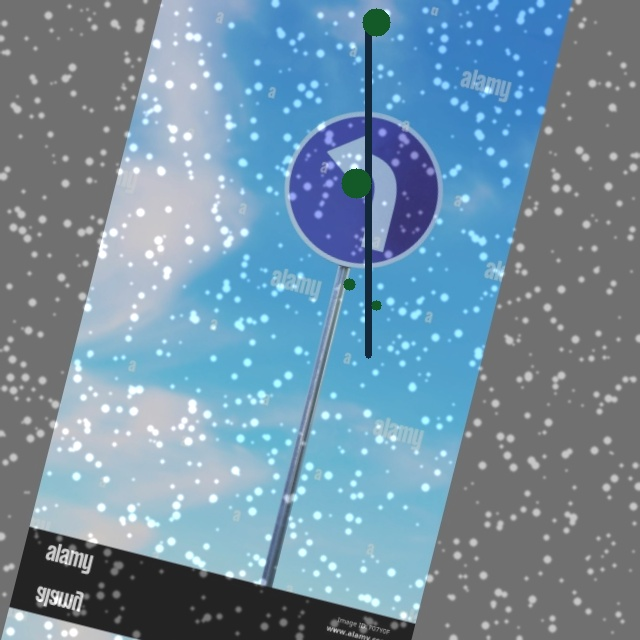Compulsory_Turn_Left_Ahead: (273, 95, 456, 289)
